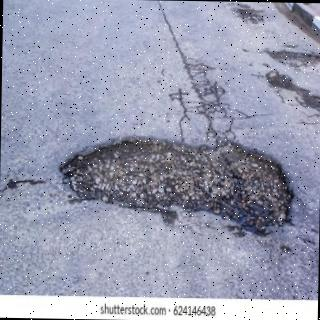pothole: (59, 137, 297, 240), (266, 49, 320, 73)
